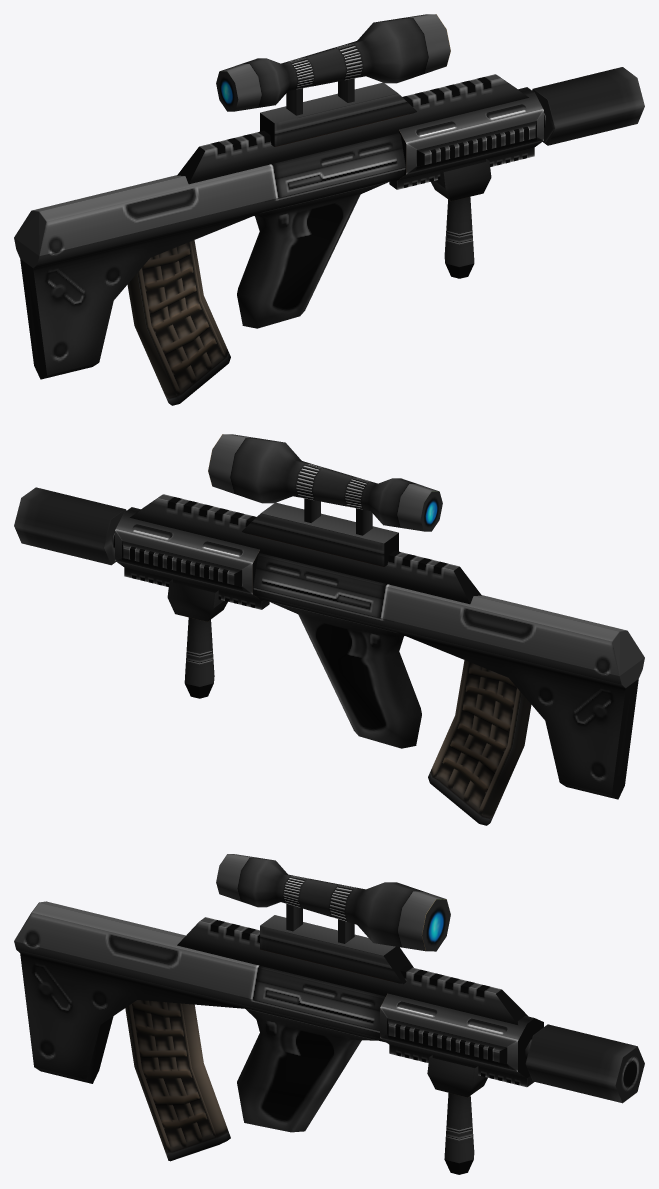
Rendered from aug a3 lv4.FBX.
The picture shows the model from 3 angles, top to bottom: view 1: azimuth 30°, elevation 25°; view 2: azimuth 150°, elevation 25°; view 3: azimuth 330°, elevation 25°; orthographic projection.
Parts seen in each view (by area): view 1: Object137; view 2: Object137; view 3: Object137.
Boxes of the visible parts, bbox=[...] form: Object137: bbox=[14, 14, 644, 405]; Object137: bbox=[14, 434, 644, 825]; Object137: bbox=[14, 854, 644, 1174].
Bounding box in the file's own units: 82.21 × 42.92 × 8.53.
